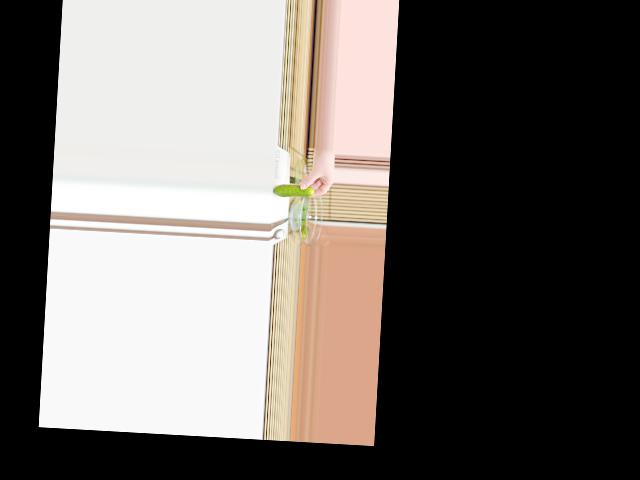cucumber: (273, 183, 314, 198)
